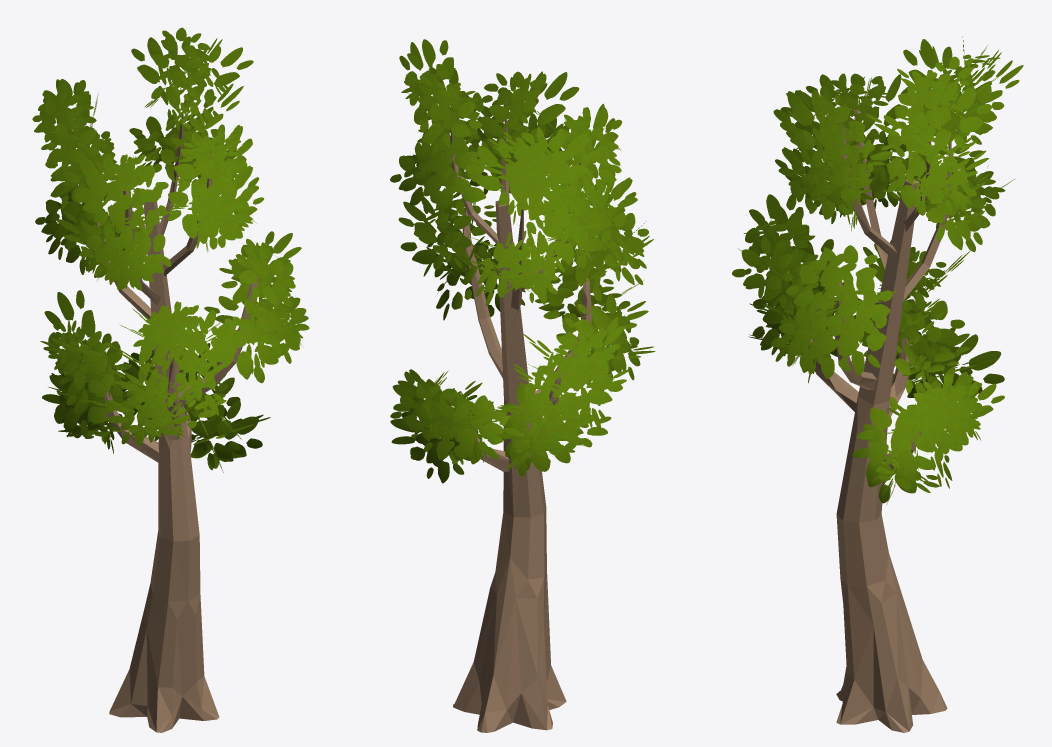
File: broadleaf-oval.far.quaternius.glb
3 views of the same model, side by side, from view 1: azimuth 30°, elevation 25°; view 2: azimuth 150°, elevation 25°; view 3: azimuth 270°, elevation 25° (orthographic). The views are drawn at different scales.
Visible parts, largest first — view 1: CommonTree_3; view 2: CommonTree_3; view 3: CommonTree_3.
Part boxes in pixels (<box>): CommonTree_3: <box>32,27,309,732</box>; CommonTree_3: <box>390,39,655,732</box>; CommonTree_3: <box>732,36,1023,732</box>.
Bounding box in the file's own units: 5.35 × 12.82 × 5.47.
2 materials, 1 textured.
